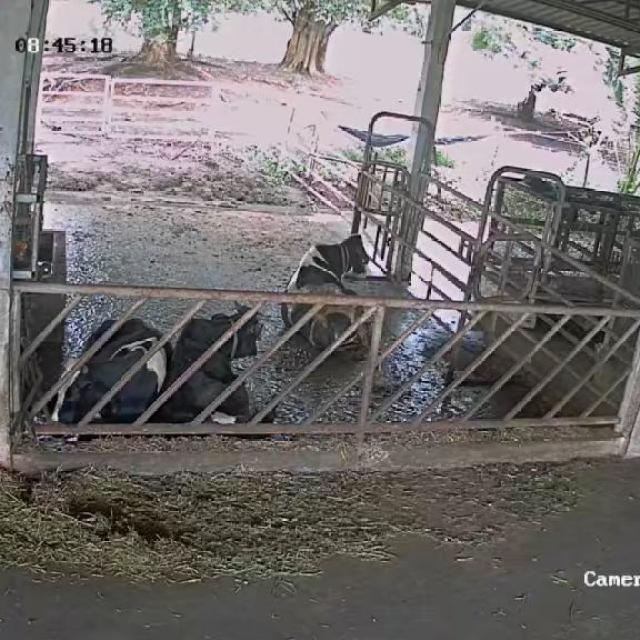lying down: (172, 287, 292, 474), (62, 262, 174, 430), (284, 207, 424, 339)
